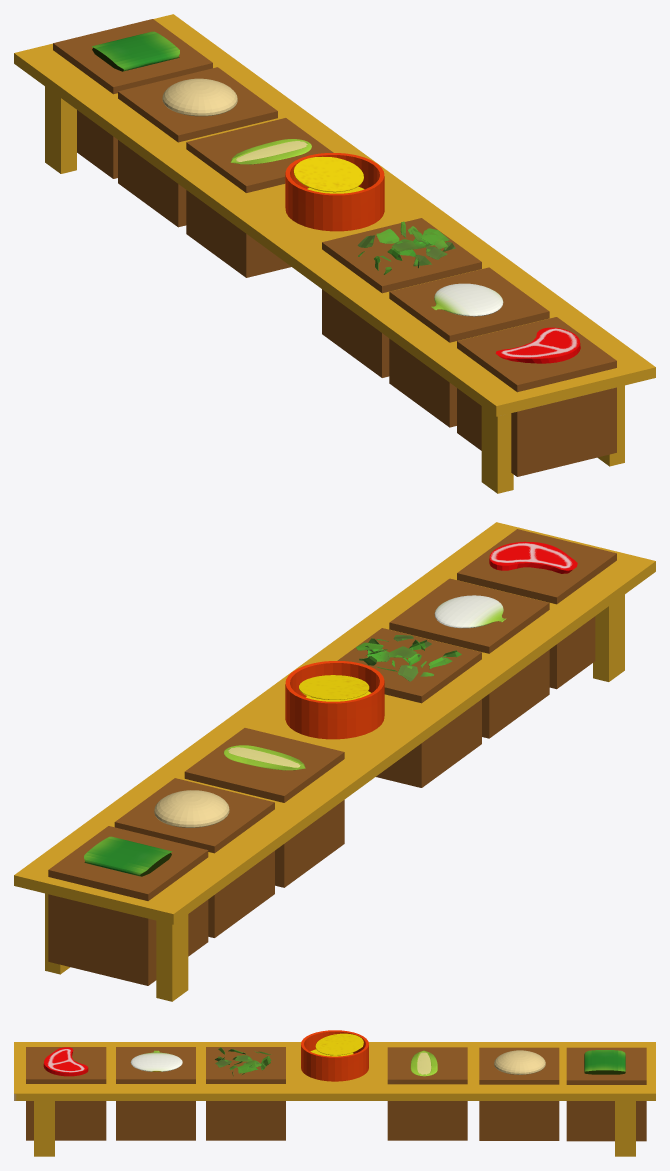
The model's file is foodtruckinside_ingredientstable.obj.
3 renders of one model, top to bottom at view 1: azimuth 30°, elevation 25°; view 2: azimuth 150°, elevation 25°; view 3: azimuth 270°, elevation 25°, orthographic. The views are drawn at different scales.
Parts seen in each view (by area): view 1: Cube.006, Cube.007, Cube.010, Cube.008, Cube.009, Cube.011, Cube.012, Cylinder.005, Sphere.016, Cylinder.008, Cube.020, Cylinder.009 (+3 smaller); view 2: Cube.006, Cube.012, Cube.010, Cube.008, Cube.009, Cube.011, Cube.007, Cylinder.005, Sphere.016, Cylinder.008, Cylinder.004, Sphere.014 (+3 smaller); view 3: Cube.006, Cube.010, Cube.009, Cube.008, Cube.011, Cube.012, Cube.007, Cylinder.005, Sphere.016, Cylinder.008, Cylinder.004, Cylinder.009 (+3 smaller).
Boxes of the visible parts, x1,y1,x2,y2 form: Cube.006: (14, 14, 655, 493); Cube.007: (457, 317, 616, 476); Cube.010: (186, 118, 333, 277); Cube.008: (389, 267, 549, 427); Cube.009: (322, 218, 481, 377); Cube.011: (118, 67, 277, 227); Cube.012: (53, 19, 212, 178); Cylinder.005: (285, 153, 384, 231); Sphere.016: (162, 78, 237, 116); Cylinder.008: (92, 31, 179, 71); Cube.020: (357, 221, 455, 274); Cylinder.009: (293, 156, 363, 192); Cube.006: (14, 522, 655, 1001); Cube.012: (48, 826, 208, 985); Cube.010: (184, 728, 344, 887); Cube.008: (389, 578, 549, 738); Cube.009: (337, 628, 481, 787); Cube.011: (114, 778, 274, 937); Cube.007: (457, 529, 616, 689); Cylinder.005: (285, 661, 384, 739); Sphere.016: (154, 790, 229, 827); Cylinder.008: (84, 836, 172, 876); Cylinder.004: (489, 541, 577, 573); Sphere.014: (434, 595, 506, 628); Cube.006: (14, 1042, 655, 1156); Cube.010: (387, 1047, 467, 1140); Cube.009: (206, 1047, 285, 1140); Cube.008: (116, 1047, 195, 1140); Cube.011: (479, 1047, 559, 1140); Cube.012: (566, 1047, 646, 1141); Cube.007: (26, 1047, 106, 1140); Cylinder.005: (301, 1030, 368, 1081); Sphere.016: (494, 1050, 545, 1074); Cylinder.008: (584, 1050, 625, 1074); Cylinder.004: (43, 1047, 88, 1076); Cylinder.009: (315, 1033, 363, 1055).
Size of the model in its own units: 4.37 by 3.67 by 22.91.
